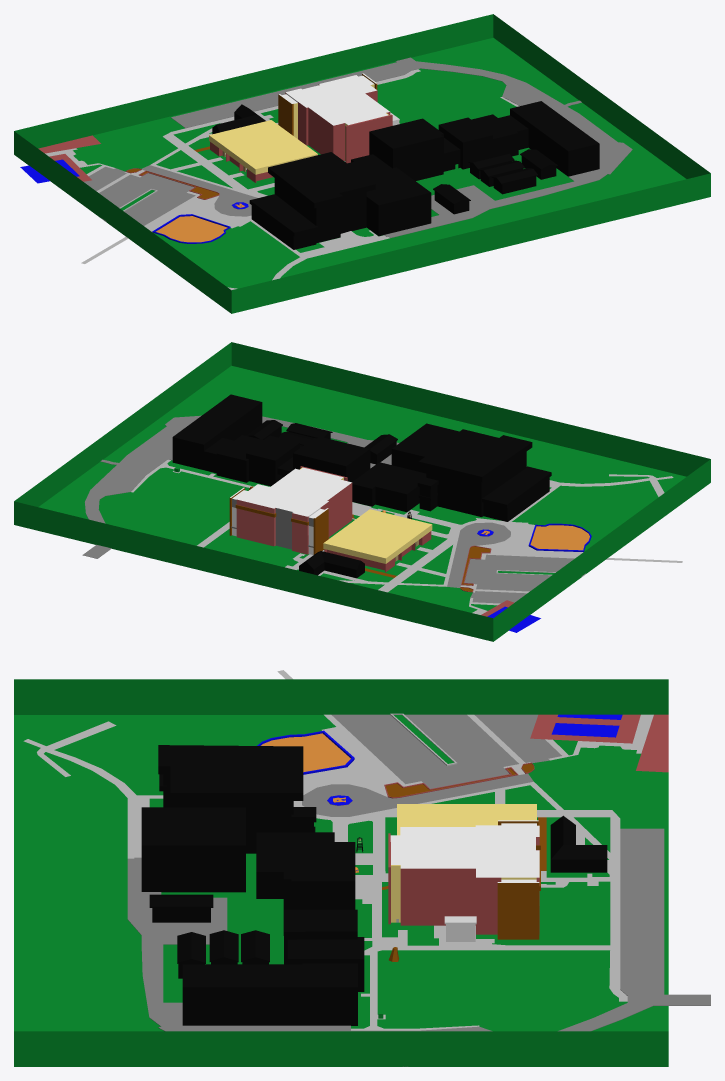
3 renders of one model, top to bottom at view 1: azimuth 30°, elevation 25°; view 2: azimuth 150°, elevation 25°; view 3: azimuth 270°, elevation 25°, orthographic. The views are drawn at different scales.
Parts seen in each view (by area): view 1: Cube.003, Cube.005, Cube, Cube.004, Cube.002; view 2: Cube.003, Cube.005, Cube, Cube.004, Cube.002; view 3: Cube.003, Cube.005, Cube, Cube.002, Cube.004, Cube.001.
Boxes of the visible parts, x1=… form: Cube.003: x1=14, y1=14, x2=710, y2=313; Cube.005: x1=249, y1=101, x2=599, y2=249; Cube: x1=278, y1=73, x2=392, y2=163; Cube.004: x1=209, y1=120, x2=317, y2=182; Cube.002: x1=433, y1=149, x2=557, y2=214; Cube.003: x1=14, y1=342, x2=710, y2=641; Cube.005: x1=172, y1=394, x2=551, y2=521; Cube: x1=229, y1=466, x2=352, y2=554; Cube.004: x1=323, y1=509, x2=432, y2=572; Cube.002: x1=246, y1=420, x2=397, y2=464; Cube.003: x1=14, y1=670, x2=710, y2=1066; Cube.005: x1=141, y1=745, x2=364, y2=1025; Cube: x1=388, y1=820, x2=540, y2=939; Cube.002: x1=149, y1=894, x2=269, y2=978; Cube.004: x1=397, y1=804, x2=536, y2=835; Cube.001: x1=444, y1=916, x2=476, y2=941.
Bounding box in the file's own units: 555 × 43.95 × 412.
3 materials, 2 textured.
